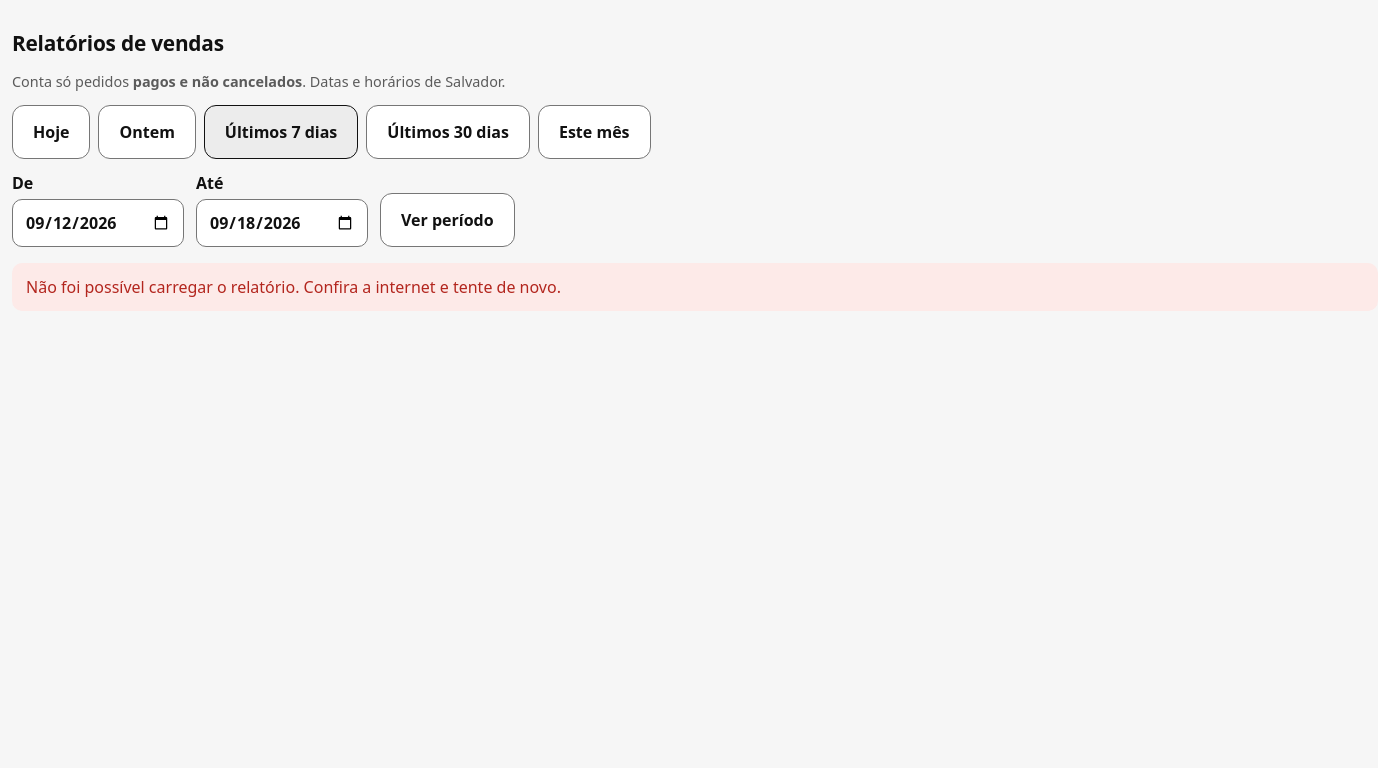
Test: Admin: relatórios de vendas › falha do banco: mensagem clara, e trocar de período tenta de novo
Expected: the message shows "Não foi possível carregar o relatório", [26,276,561,298]
Click the button "Hoje": (51, 132) [12,105,90,159]
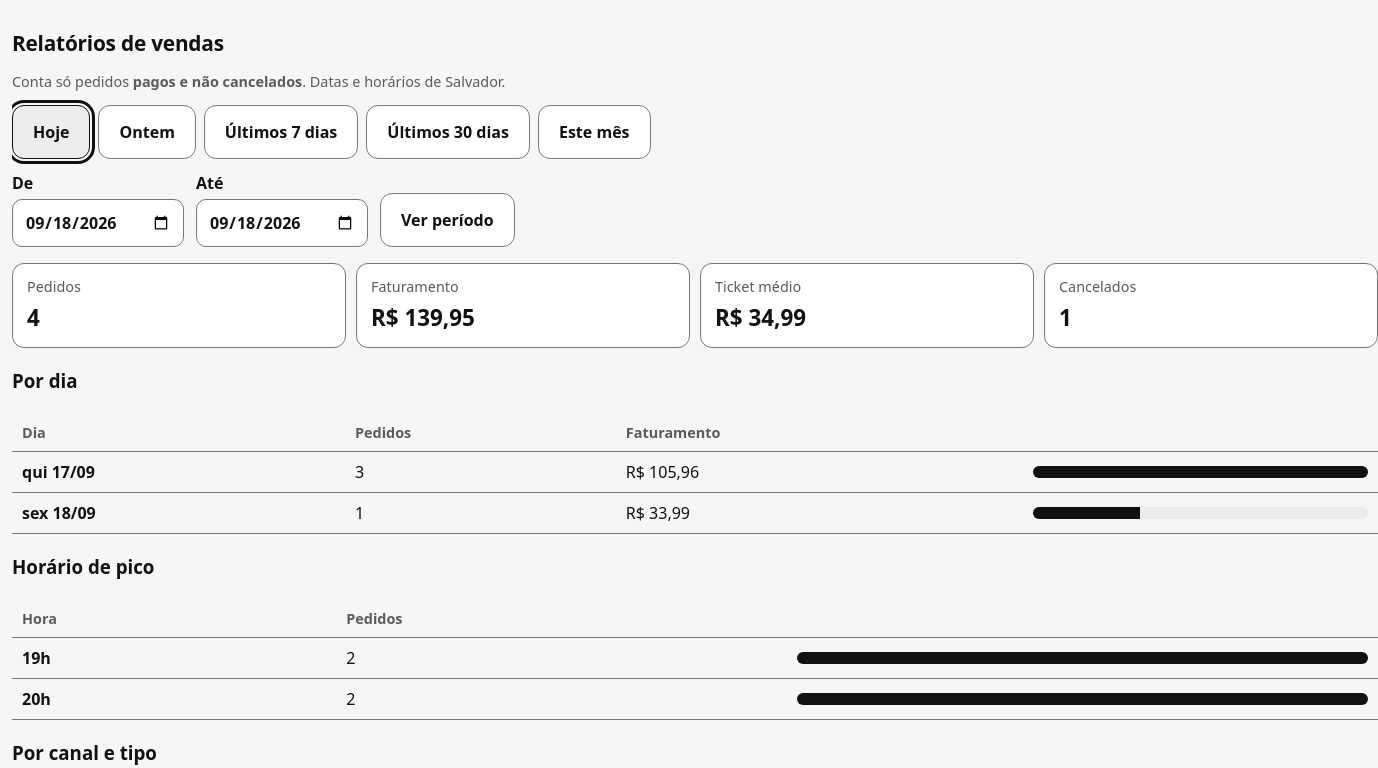
Expected: the text "Ticket médio" is shown, [715,277,801,296]
Expected: the message "Não foi possível carregar o relatório. Confira a internet e tente de novo." is gone
